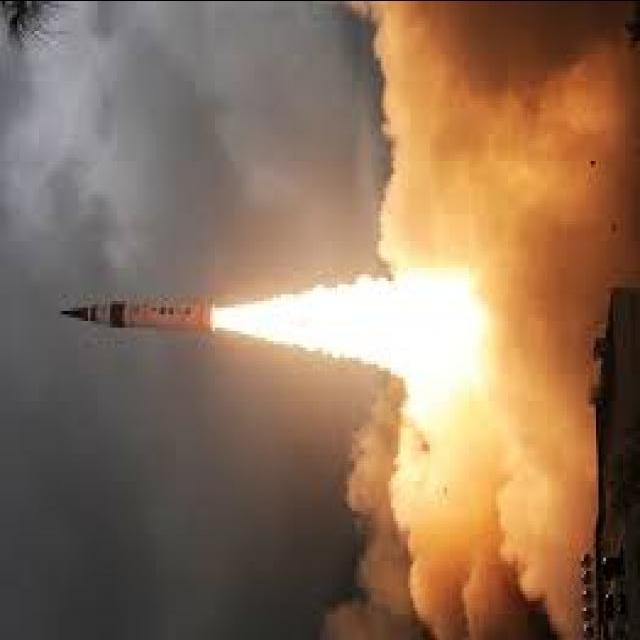missile: (52, 284, 236, 342)
